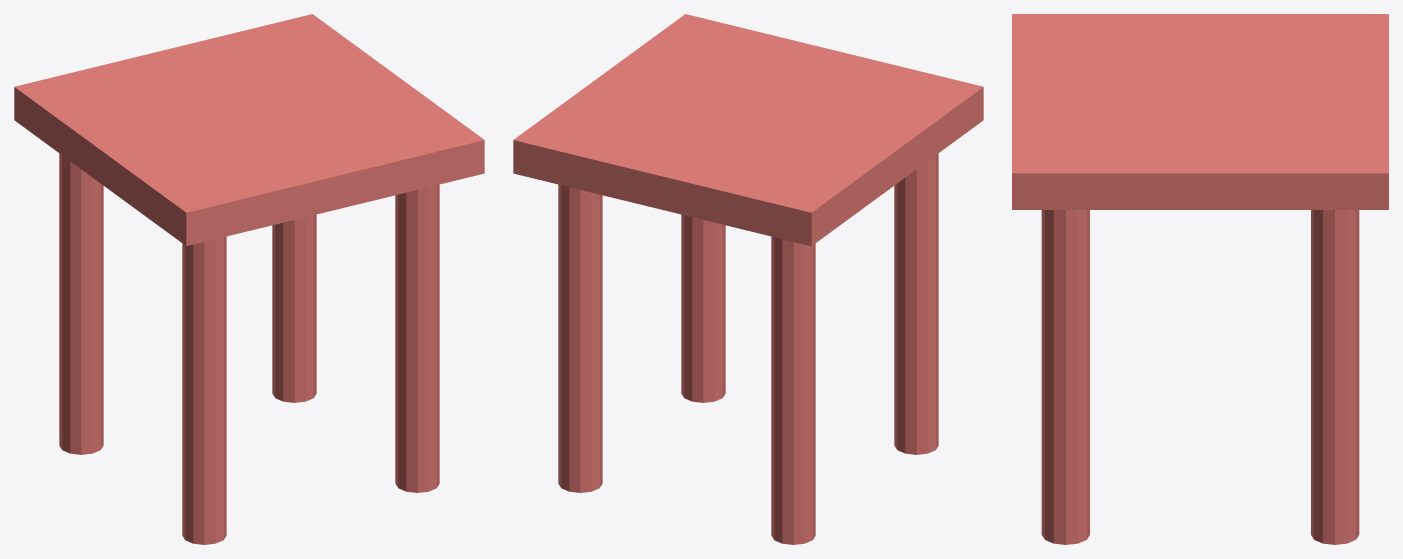
File: SM_Prop_PlasticStool.fbx
The picture shows the model from 3 angles, left to right: view 1: azimuth 30°, elevation 25°; view 2: azimuth 150°, elevation 25°; view 3: azimuth 270°, elevation 25°; orthographic projection. The views are drawn at different scales.
Visible parts, largest first — view 1: Seat, Leg_-0.1_-0.1, Leg_0.1_-0.1, Leg_-0.1_0.1, Leg_0.1_0.1; view 2: Seat, Leg_-0.1_0.1, Leg_0.1_0.1, Leg_-0.1_-0.1, Leg_0.1_-0.1; view 3: Seat, Leg_0.1_-0.1, Leg_0.1_0.1.
Boxes of the visible parts, box(x1,y1,x2,y2) form: Seat: box(14, 14, 484, 246); Leg_-0.1_-0.1: box(182, 236, 226, 544); Leg_0.1_-0.1: box(395, 184, 439, 492); Leg_-0.1_0.1: box(59, 153, 103, 454); Leg_0.1_0.1: box(272, 214, 316, 402); Seat: box(513, 14, 983, 246); Leg_-0.1_0.1: box(771, 236, 815, 544); Leg_0.1_0.1: box(558, 184, 602, 492); Leg_-0.1_-0.1: box(894, 153, 938, 454); Leg_0.1_-0.1: box(681, 214, 725, 402); Seat: box(1012, 14, 1388, 209); Leg_0.1_-0.1: box(1041, 210, 1089, 544); Leg_0.1_0.1: box(1311, 210, 1359, 544).
Size of the model in its own units: 0.28 by 0.315 by 0.28.
